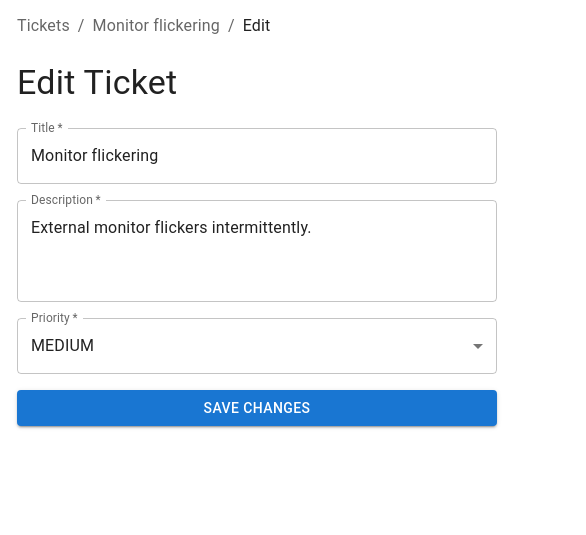
Test case: View and edit navigation › saving the edit page returns to the detail page with updated values and correct breadcrumbs (FR-004, FR-019, FR-020)
Expected: the navigation bar named "breadcrumb" shows "Tickets", [17,16,70,35]
Expected: the navigation bar named "breadcrumb" shows "Monitor flickering", [93,16,220,35]
Replace the text in the field labelled "Title *" with "Monitor flickering badly" at x=257, y=156, box [17,128,497,184]
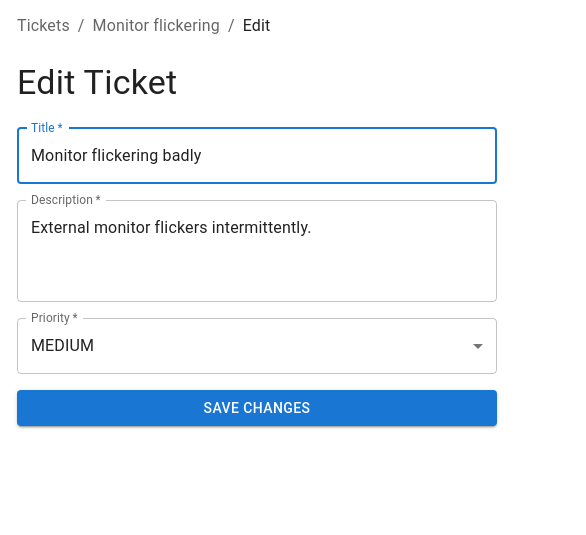
Click the button "Save Changes" at x=257, y=408, box [17,390,497,426]
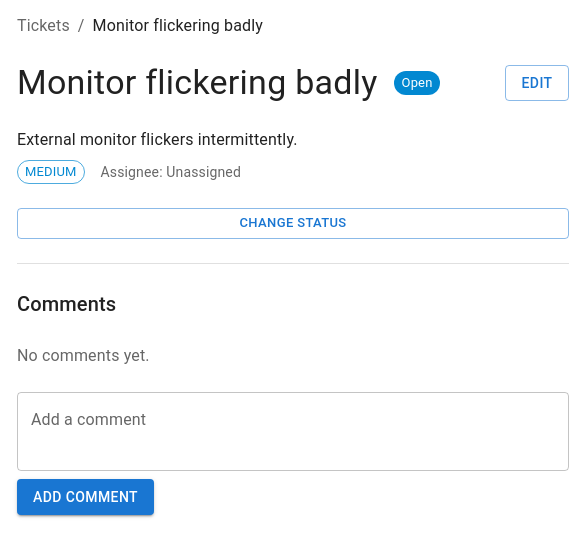
Result: the heading "Monitor flickering badly" is shown at [17,62,378,104]
Result: the button "Save Changes" is gone
